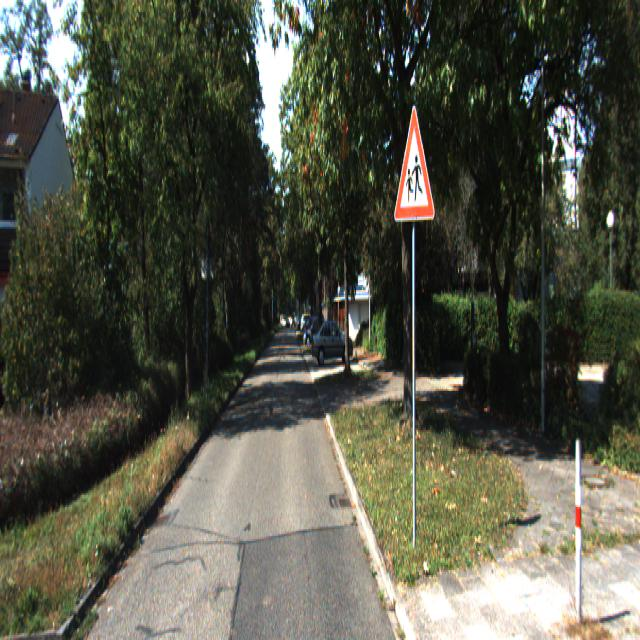Car: (310, 318, 353, 368)
